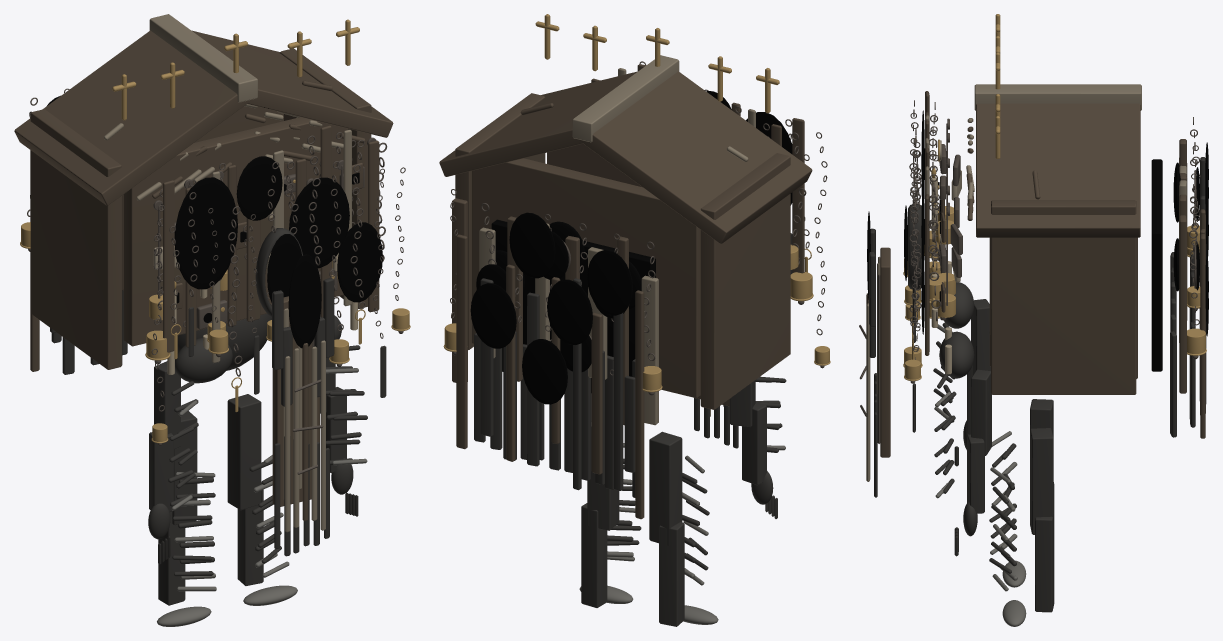
The model's file is penance_carrier_end_goal_v7_organic_clutter.glb.
3 renders of one model, left to right at view 1: azimuth 30°, elevation 25°; view 2: azimuth 150°, elevation 25°; view 3: azimuth 270°, elevation 25°, orthographic. The views are drawn at different scales.
Parts seen in each view (by area): view 1: PC_V4_roof_left_steep_slab, PC_V4_shrine_left_side_wall, PC_V4_shrine_front_rotten_wall, PC_V4_roof_right_steep_slab, PC_V7_front_black_wall_gap_00, PC_V7_front_black_wall_gap_02, PC_V6_right_wrapped_thigh, PC_V4_roof_ridge_heavy_rot, PC_V7_front_black_wall_gap_03, PC_V6_long_door_mask_front, PC_V7_deeper_head_void, PC_V4_shrine_right_side_wall (+34 smaller); view 2: PC_V4_shrine_rear_rotten_wall, PC_V4_roof_left_steep_slab, PC_V4_shrine_left_side_wall, PC_V4_roof_right_steep_slab, PC_V6_left_wrapped_thigh, PC_V4_roof_ridge_heavy_rot, PC_V4_back_black_rotten_hollow, PC_V7_back_wet_rotten_rib_08, PC_V6_left_wrapped_shin, PC_V6_right_wrapped_shin, PC_V4_shrine_right_side_wall, PC_V7_back_deep_wound_void_02 (+36 smaller); view 3: PC_V4_shrine_right_side_wall, PC_V4_roof_right_steep_slab, PC_V4_roof_ridge_heavy_rot, PC_V4_back_black_rotten_hollow, PC_V6_long_door_mask_front, PC_V6_right_wrapped_thigh, PC_V6_right_wrapped_shin, PC_V4_right_long_upper_arm_wrapped, PC_V5_back_rotten_vertical_plank_07, PC_V4_right_long_forearm_wrapped, PC_V4_left_long_upper_arm_wrapped, PC_V4_right_shoulder_under_mask (+10 smaller).
Boxes of the visible parts, x1,y1,x2,y2 form: PC_V4_roof_left_steep_slab: (14,30,251,205); PC_V4_shrine_left_side_wall: (30,109,122,369); PC_V4_shrine_front_rotten_wall: (123,117,348,346); PC_V4_roof_right_steep_slab: (192,30,393,137); PC_V7_front_black_wall_gap_00: (174,177,237,289); PC_V7_front_black_wall_gap_02: (289,177,349,268); PC_V6_right_wrapped_thigh: (227,394,261,510); PC_V4_roof_ridge_heavy_rot: (149,14,257,102); PC_V7_front_black_wall_gap_03: (337,222,382,302); PC_V6_long_door_mask_front: (272,296,319,506); PC_V7_deeper_head_void: (288,254,321,348); PC_V4_shrine_right_side_wall: (280,48,371,308); PC_V4_shrine_rear_rotten_wall: (471,158,700,398); PC_V4_roof_left_steep_slab: (578,71,812,243); PC_V4_shrine_left_side_wall: (700,153,790,409); PC_V4_roof_right_steep_slab: (439,71,637,176); PC_V6_left_wrapped_thigh: (649,431,682,545); PC_V4_roof_ridge_heavy_rot: (572,55,679,142); PC_V4_back_black_rotten_hollow: (491,219,655,393); PC_V7_back_wet_rotten_rib_08: (456,234,467,449); PC_V6_left_wrapped_shin: (659,522,684,626); PC_V6_right_wrapped_shin: (581,503,607,607); PC_V4_shrine_right_side_wall: (455,93,545,349); PC_V7_back_deep_wound_void_02: (509,212,555,278); PC_V4_shrine_right_side_wall: (991,200,1136,394); PC_V4_roof_right_steep_slab: (976,103,1140,237); PC_V4_roof_ridge_heavy_rot: (974,84,1141,110); PC_V4_back_black_rotten_hollow: (1151,159,1162,371); PC_V6_long_door_mask_front: (880,247,890,457); PC_V6_right_wrapped_thigh: (1030,428,1053,534); PC_V6_right_wrapped_shin: (1035,513,1054,612); PC_V4_right_long_upper_arm_wrapped: (971,369,991,455); PC_V5_back_rotten_vertical_plank_07: (1179,215,1186,393); PC_V4_right_long_forearm_wrapped: (967,434,984,513); PC_V4_left_long_upper_arm_wrapped: (971,299,990,374); PC_V4_right_shoulder_under_mask: (939,331,974,378).
Size of the model in its own units: 2.3 by 4.4 by 2.55.
